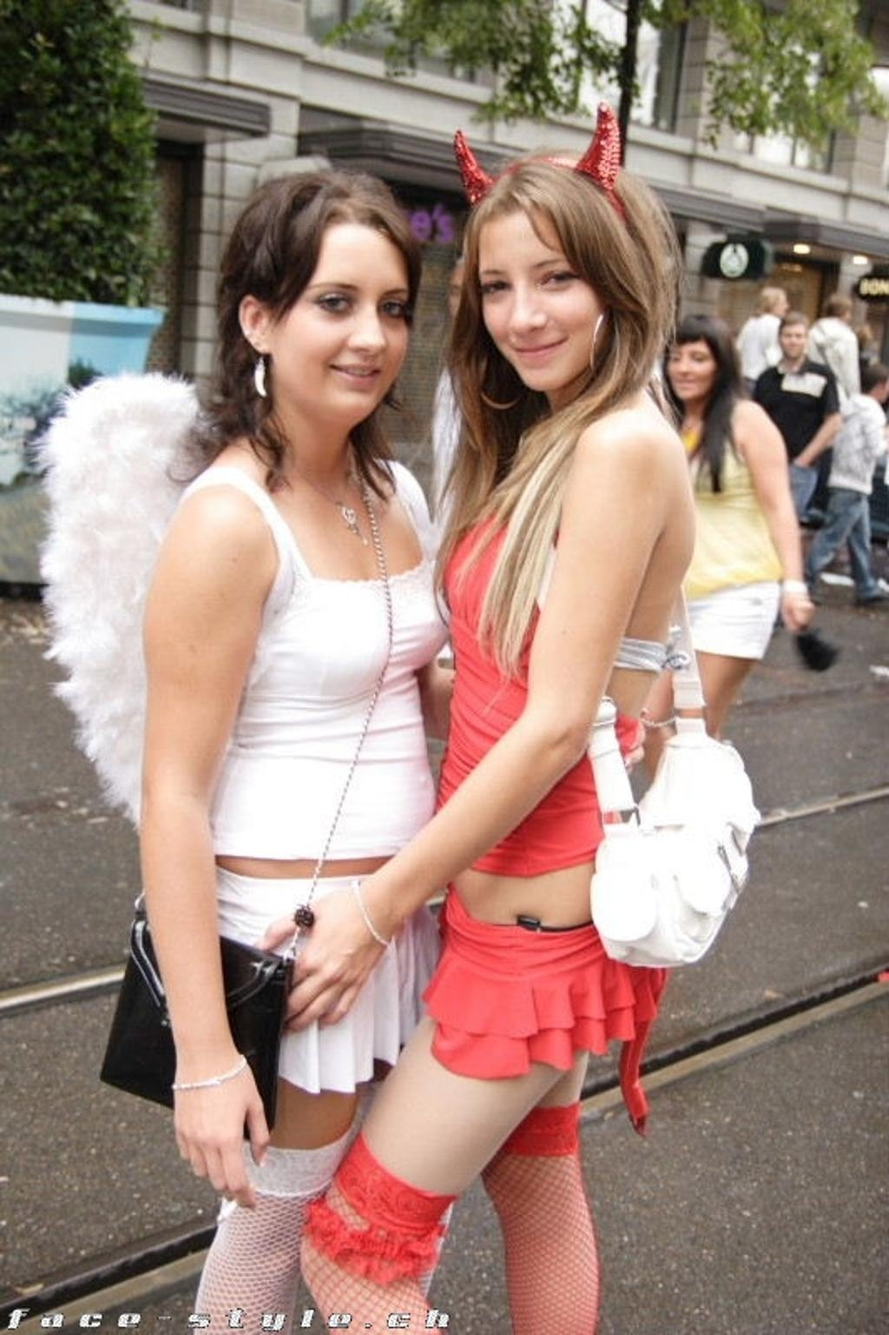human_face: (271, 228, 408, 419), (478, 220, 605, 390), (666, 341, 716, 399), (779, 324, 804, 357), (770, 291, 787, 316), (876, 375, 889, 401), (837, 304, 850, 321)
